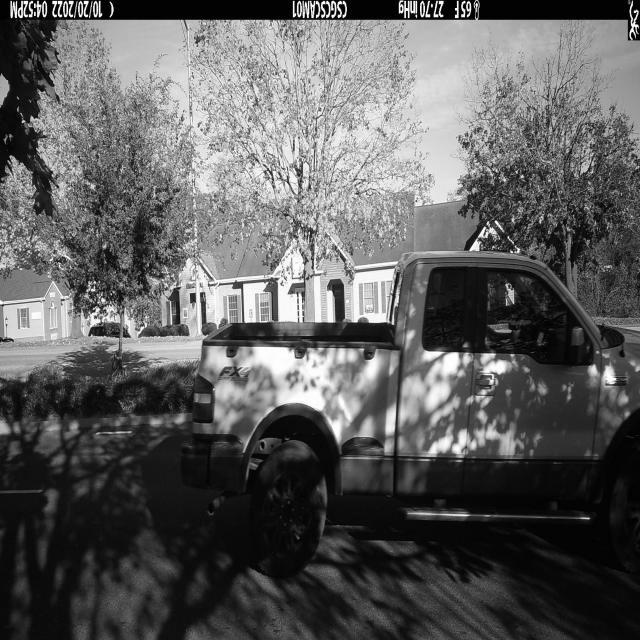Pickup: (179, 252, 640, 583)
